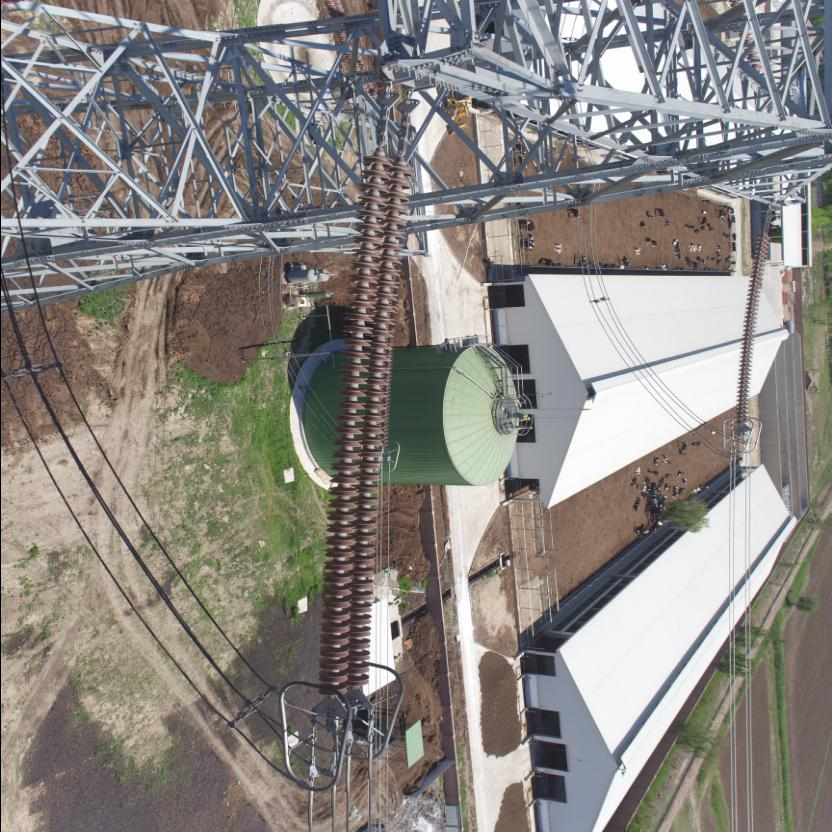insulator: (315, 121, 416, 708)
